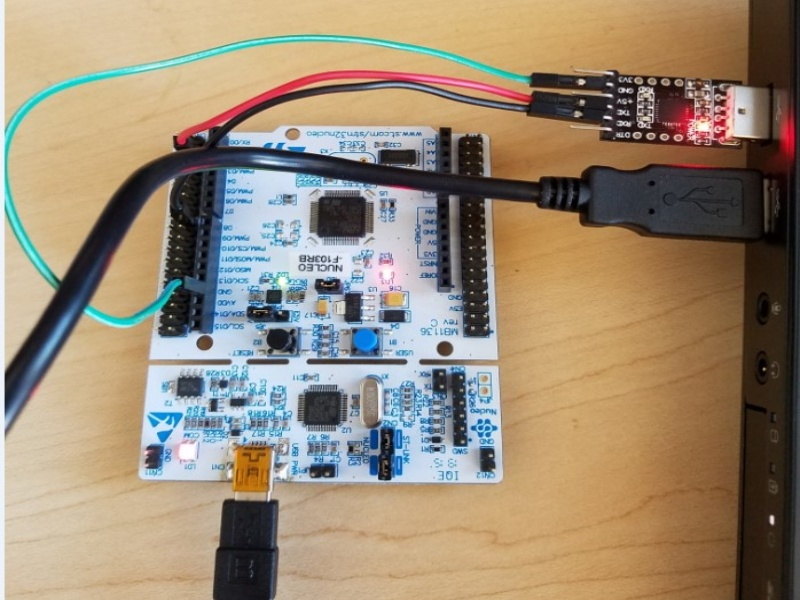stmnucleo: (139, 113, 513, 497)
